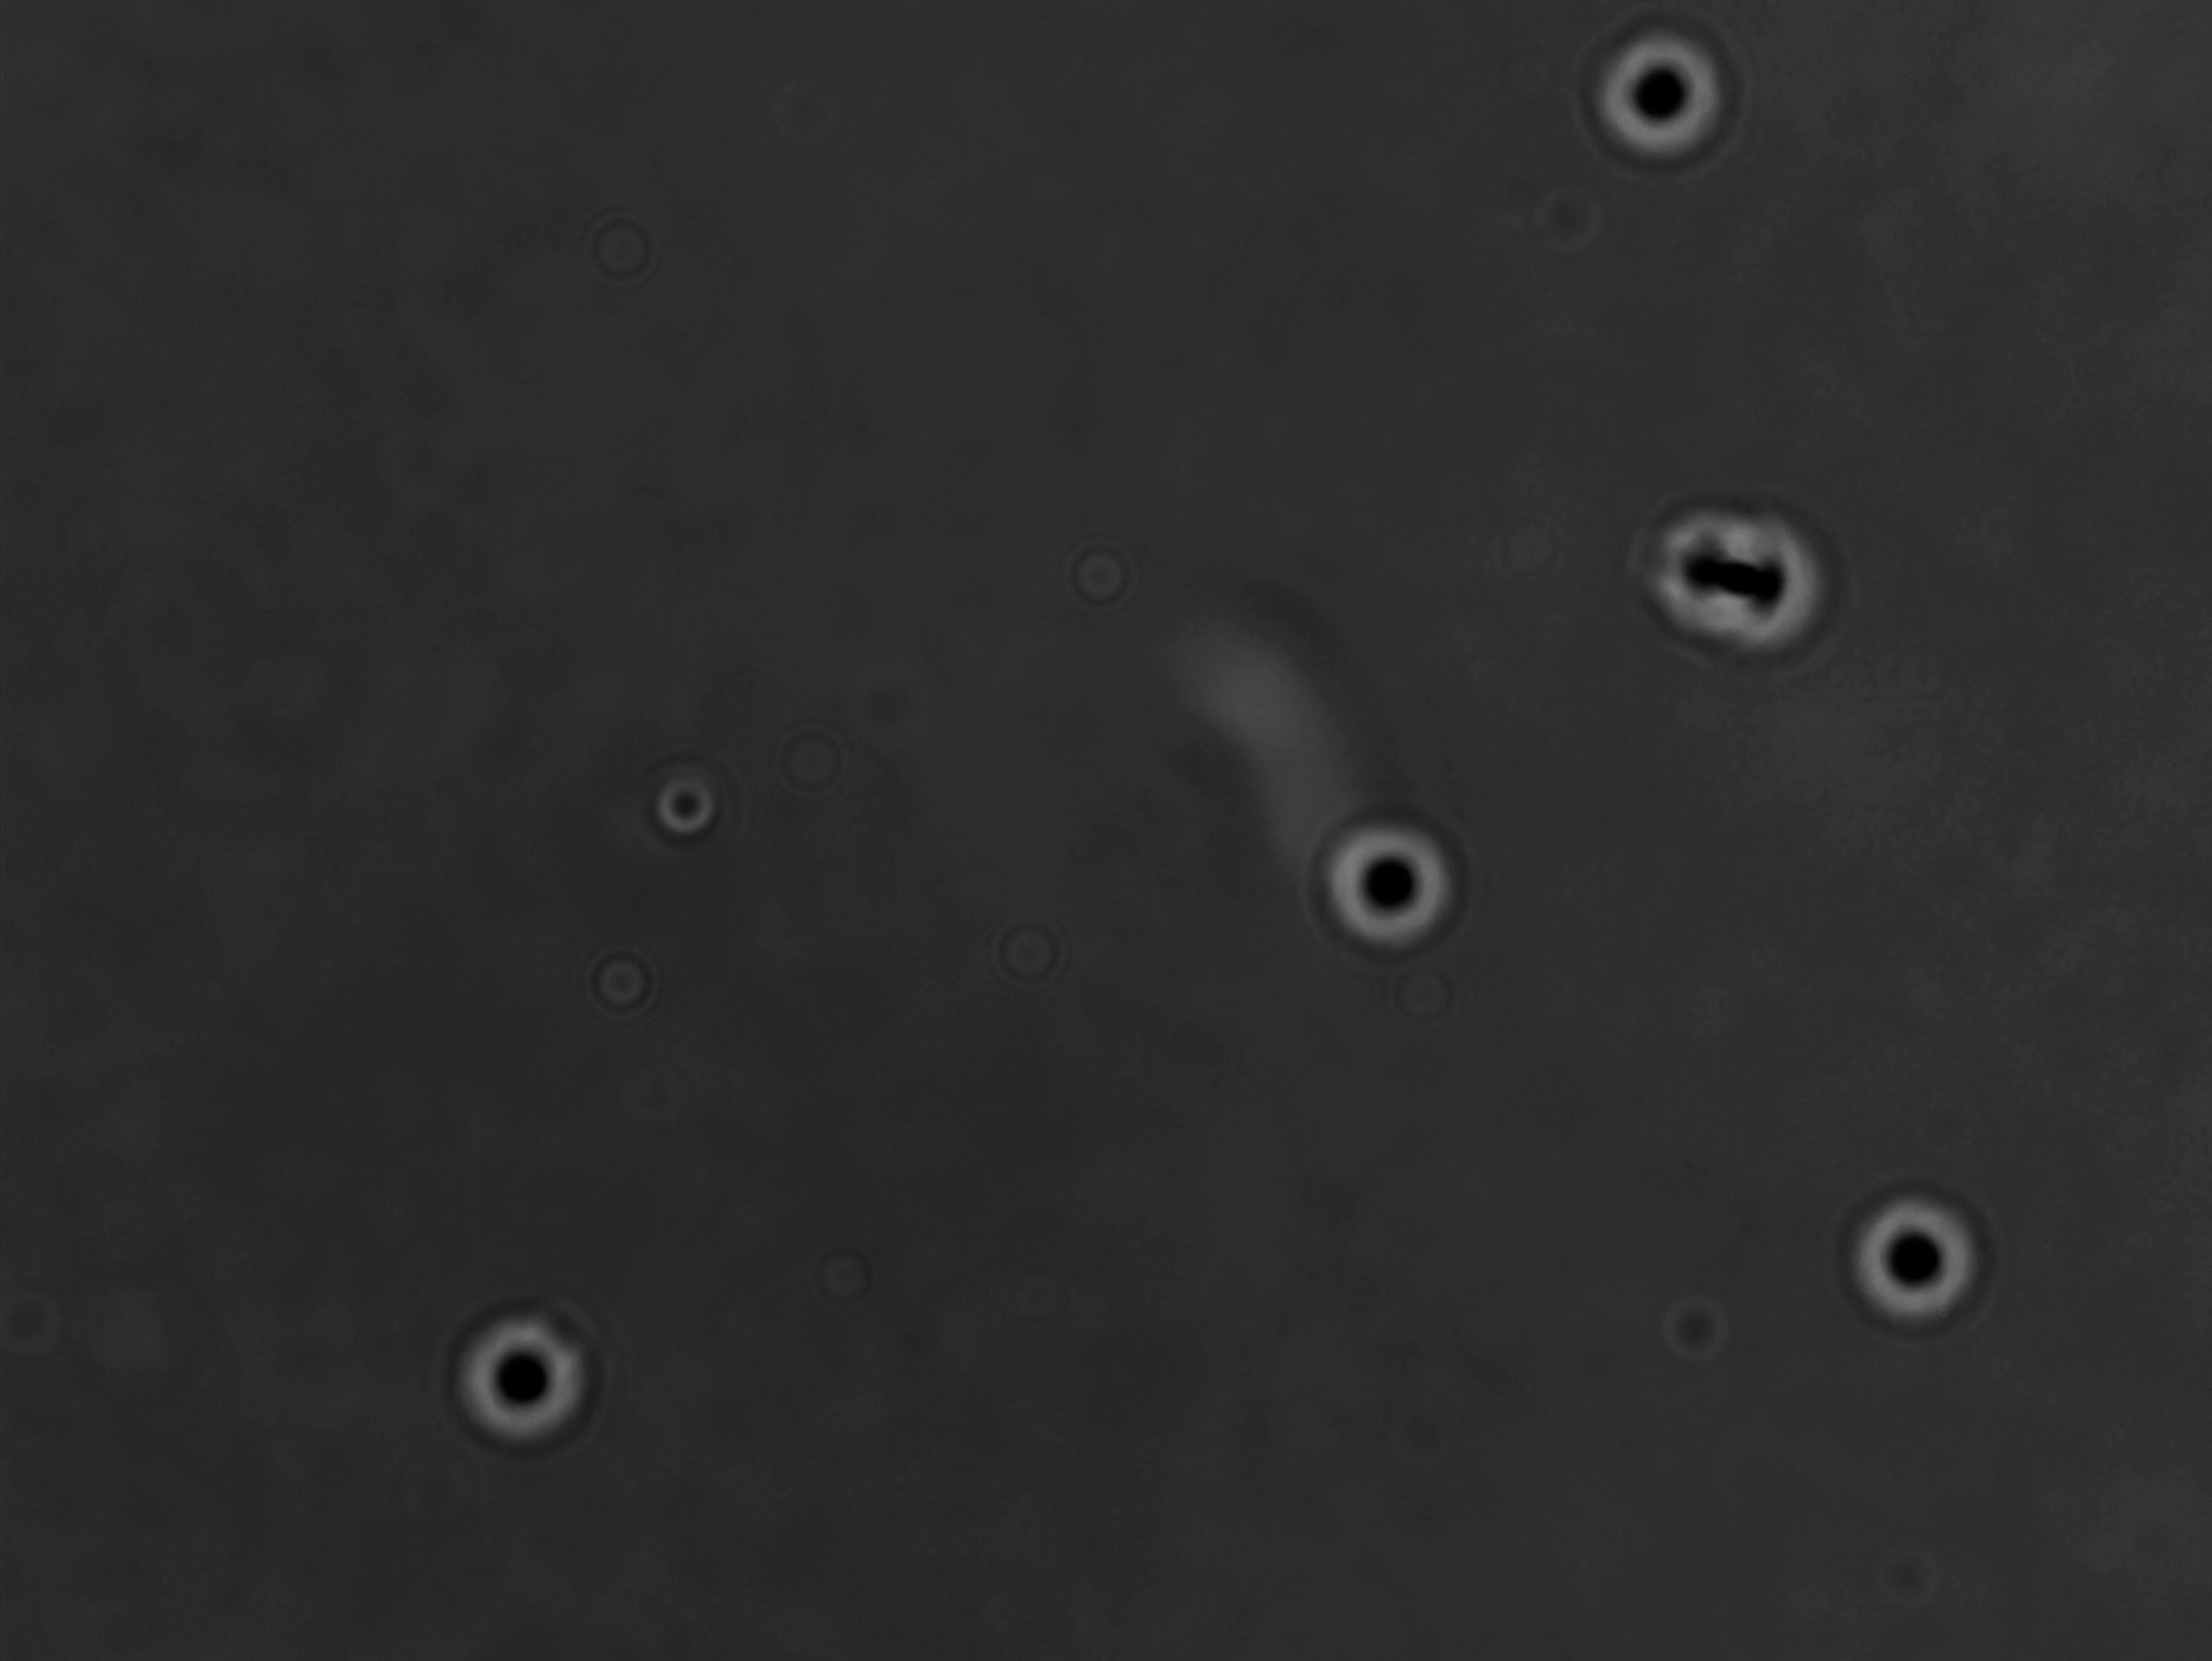depth:-40: (1835, 1176, 2015, 1354), (440, 1293, 614, 1460), (1312, 801, 1479, 974), (1575, 14, 1748, 180)
